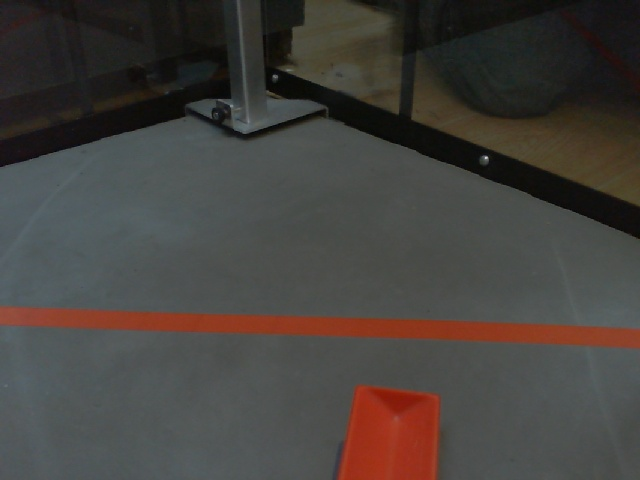RedSample: (332, 377, 444, 480)
